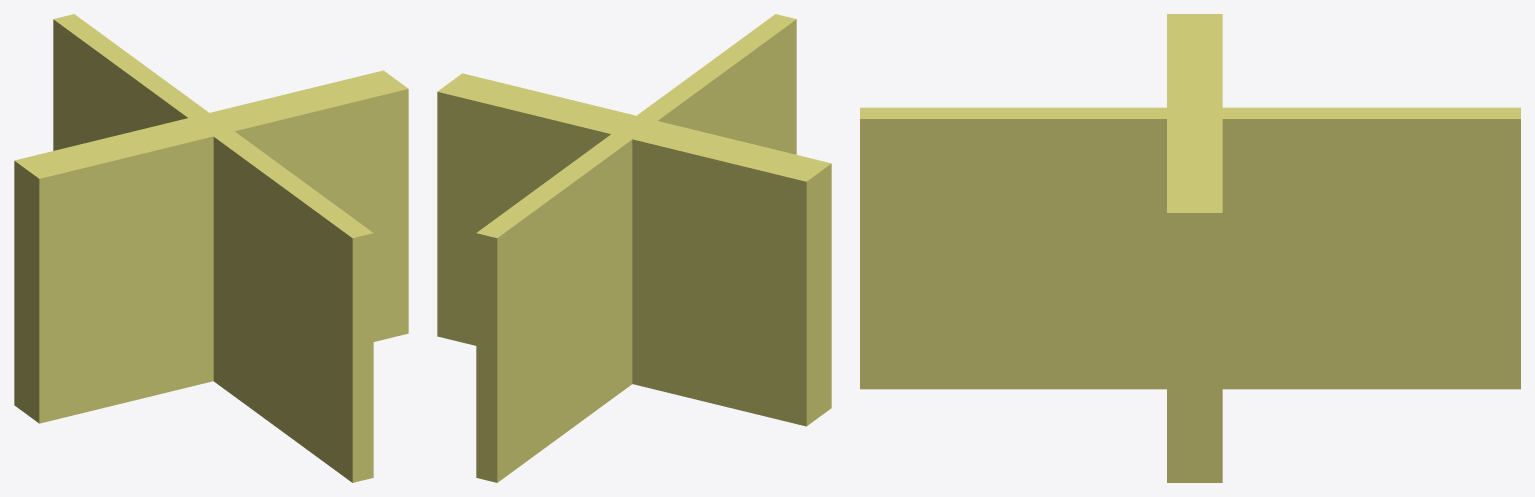
Rendered from OfficeWall.fbx.
3 renders of one model, left to right at view 1: azimuth 30°, elevation 25°; view 2: azimuth 150°, elevation 25°; view 3: azimuth 270°, elevation 25°, orthographic. The views are drawn at different scales.
Parts seen in each view (by area): view 1: pCube1; view 2: pCube1; view 3: pCube1.
Part boxes in pixels (x1=…): pCube1: x1=14, y1=14, x2=408, y2=482; pCube1: x1=437, y1=14, x2=831, y2=482; pCube1: x1=860, y1=14, x2=1520, y2=482.
Bounding box in the file's own units: 8.57 × 5.43 × 12.04.
